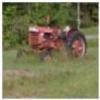tractors: (19, 16, 88, 66)
